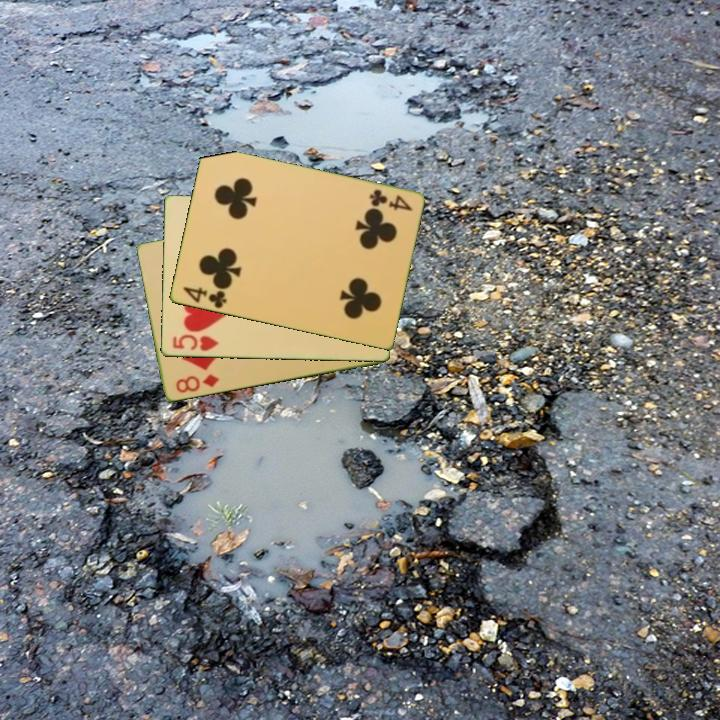4c: (179, 283, 229, 312), (365, 186, 415, 214)
5h: (169, 331, 221, 354)
8d: (172, 371, 222, 396)
